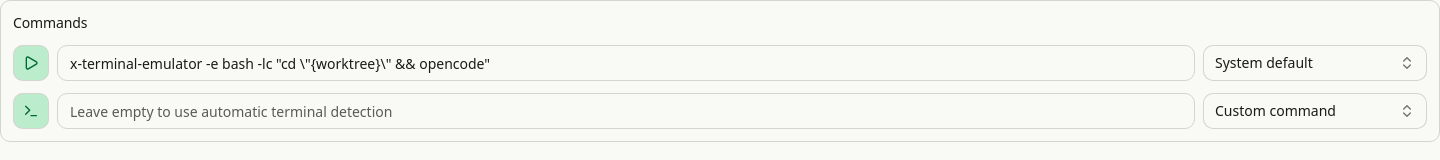
CommandsSettingsForm › updates saved state with response payload values
In the field with id "open-terminal-at-worktree-command": point(626, 111) [57, 93, 1195, 129], type "something"
Wait 500 ms
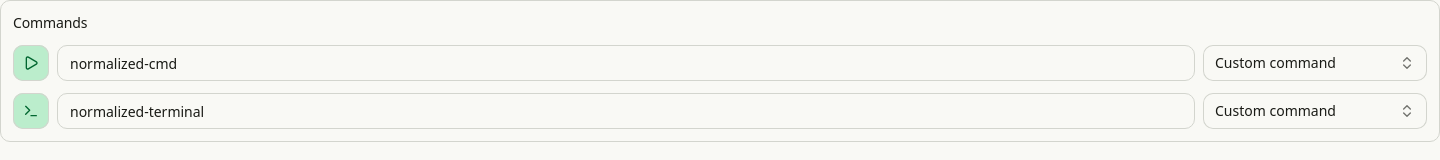
Expected: the 1st field holds "normalized-cmd", [57, 45, 1195, 81]
